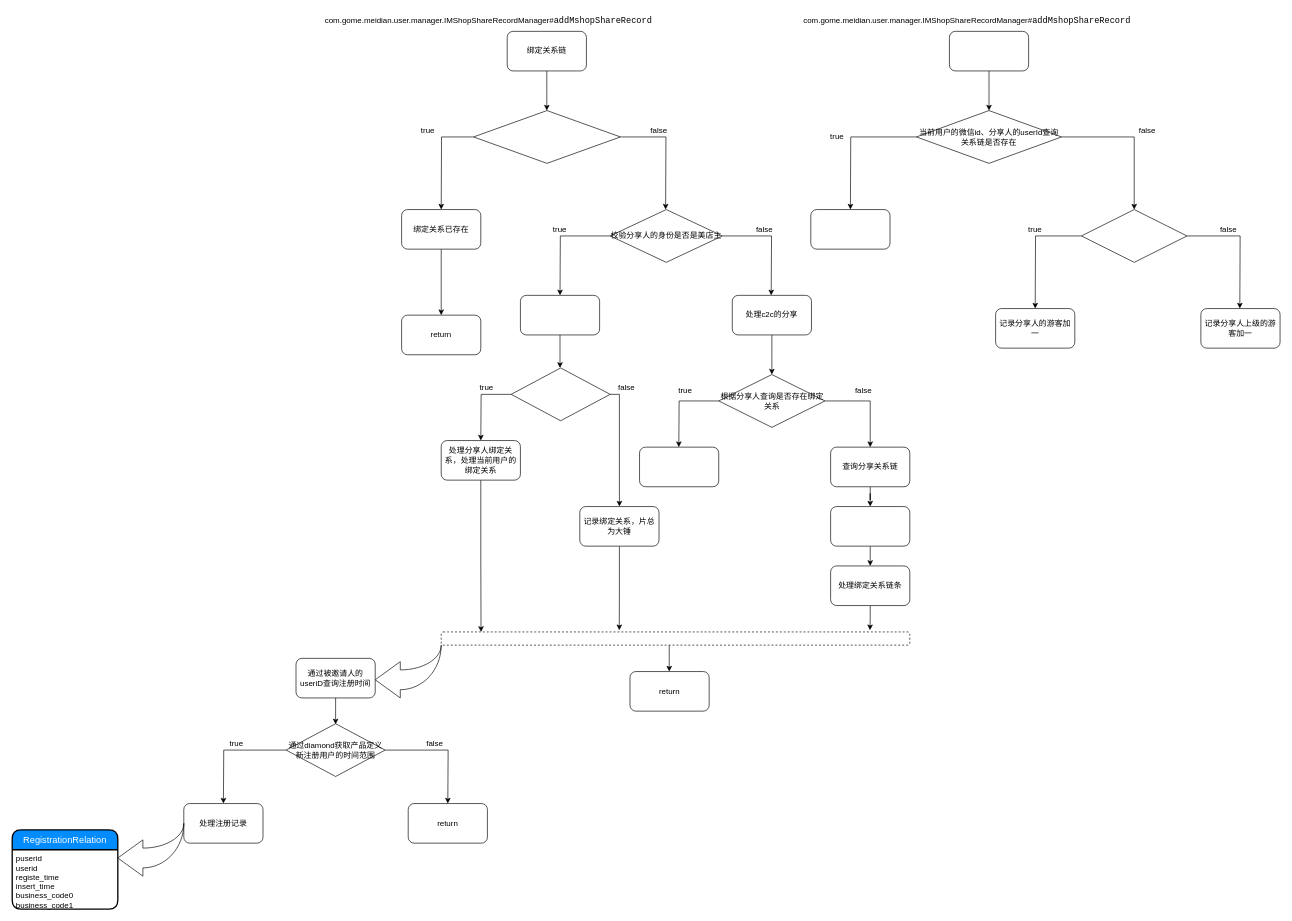
Some shapes in this 1292 by 921 pixel diagram are drawn without their labels. The centre of each missing label's shape, as x and y in pixels:
分享关系链: (989,51)
判断分享人是否为美店主: (1134,235)
处理b2c的绑定关系: (560,315)
处理绑定关系落库: (679,466)
当前用户、分享人的userId查询是否已经存在绑定关系: (546,136)
拦截处理注册用户数据: (675,638)
更新为会员游客: (850,229)
查出分享逻辑上级: (870,526)
查询分享人是否存在绑定关系: (560,394)
